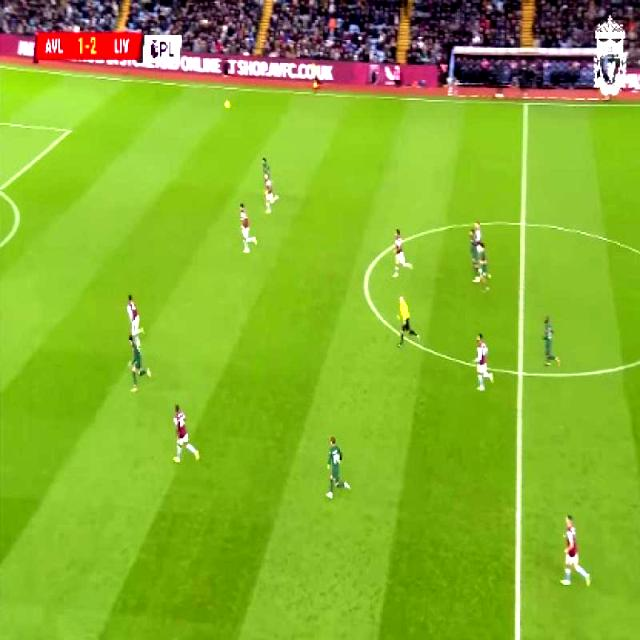bigarea_top_inner: (60, 120, 75, 140)
halfcircle_bottom: (510, 356, 532, 388)
halfcircle_top: (512, 209, 534, 237)
midline_top_intersection: (516, 92, 534, 114)
top_arc_area_intersection: (0, 179, 6, 198)
